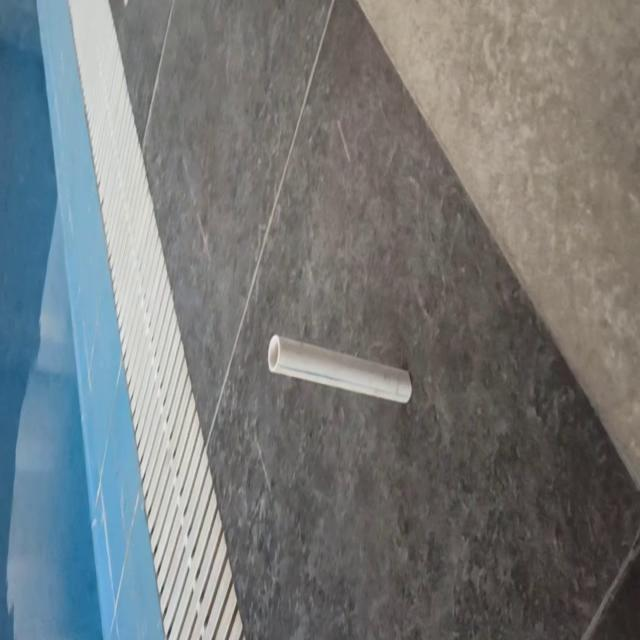Cube: (266, 332, 412, 406)
